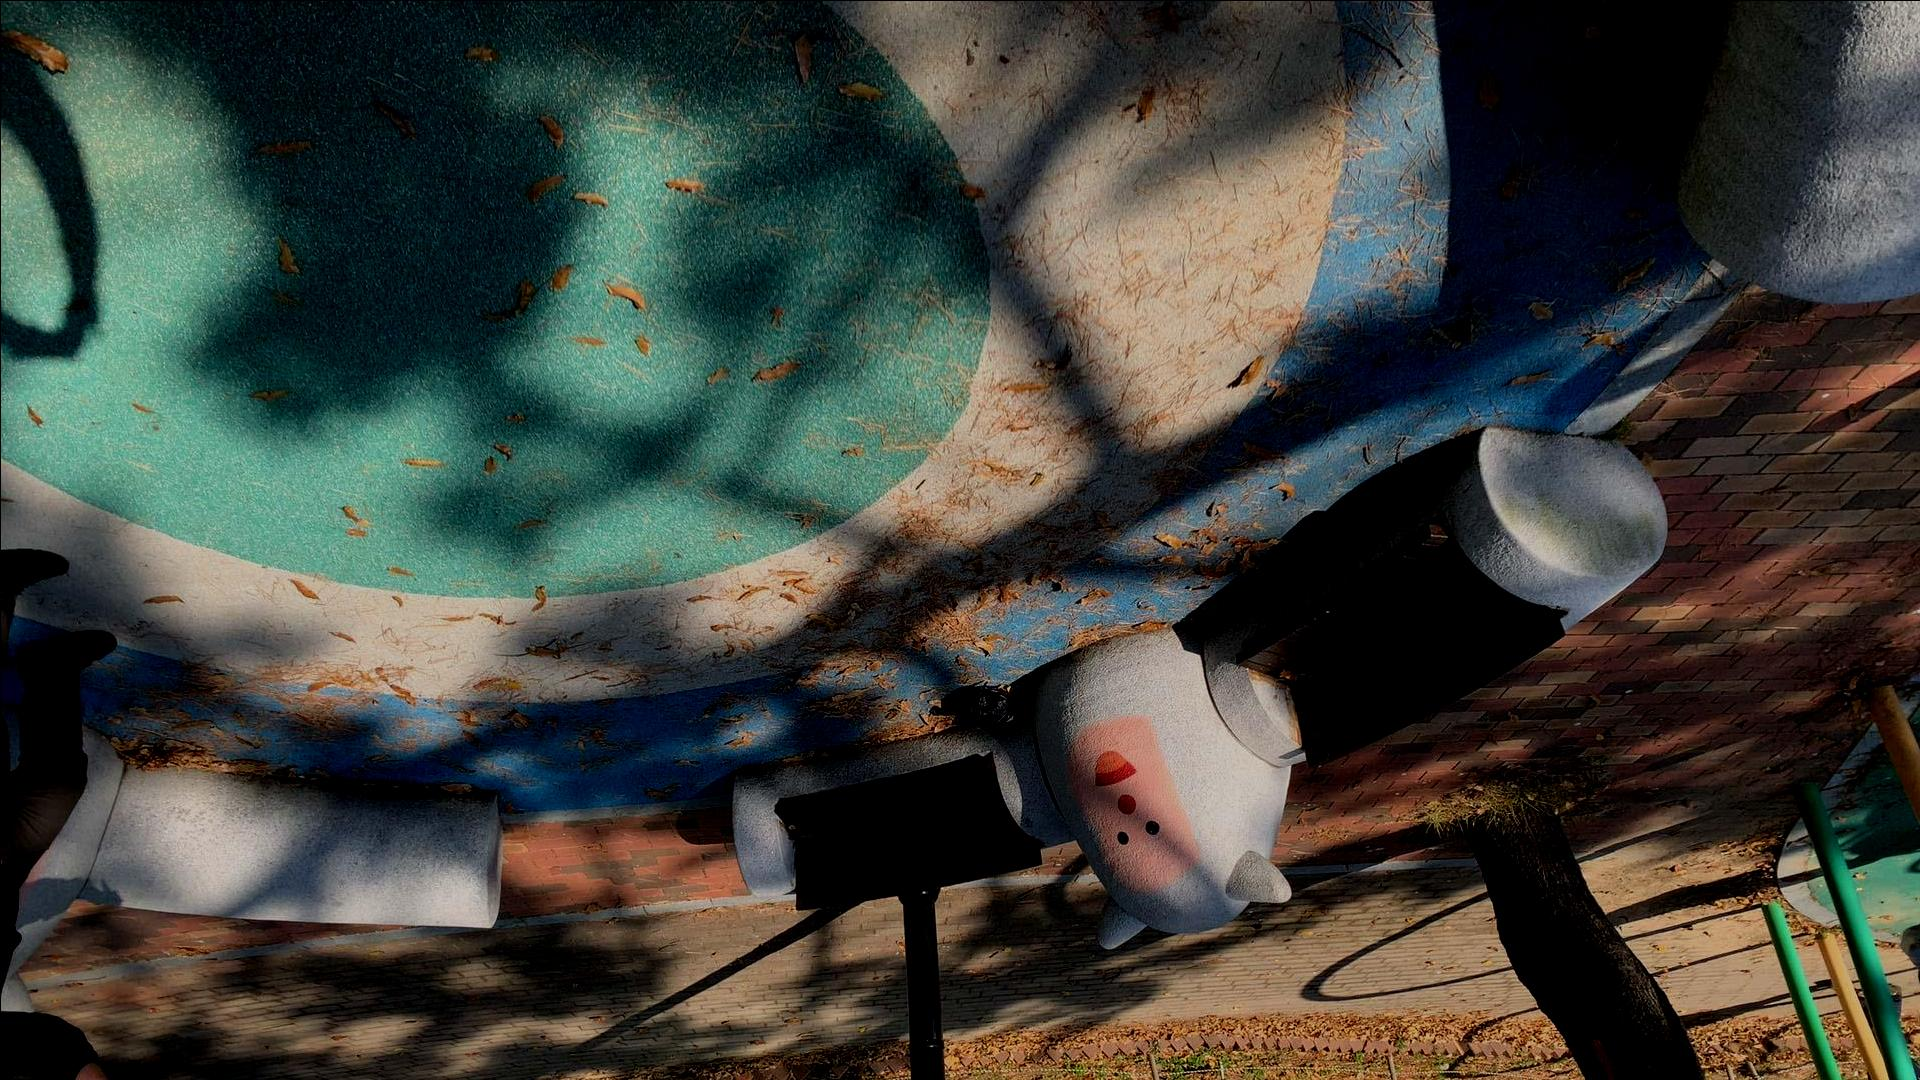black_bag: (931, 684, 1027, 731)
